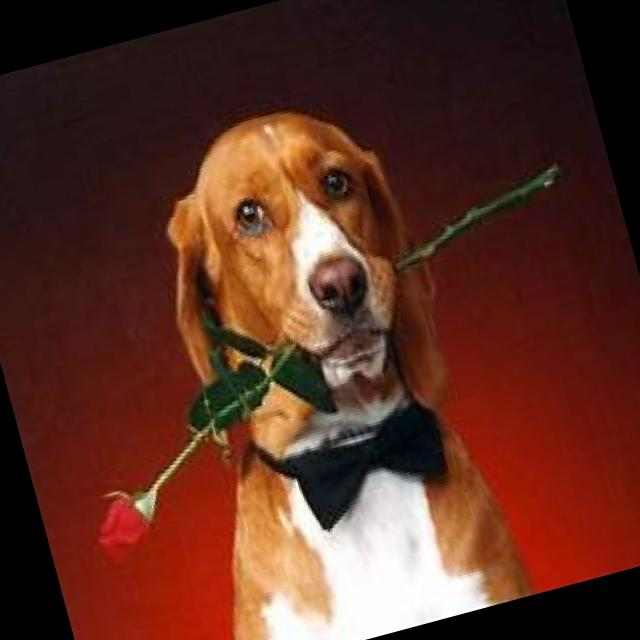animal: (99, 74, 536, 640)
